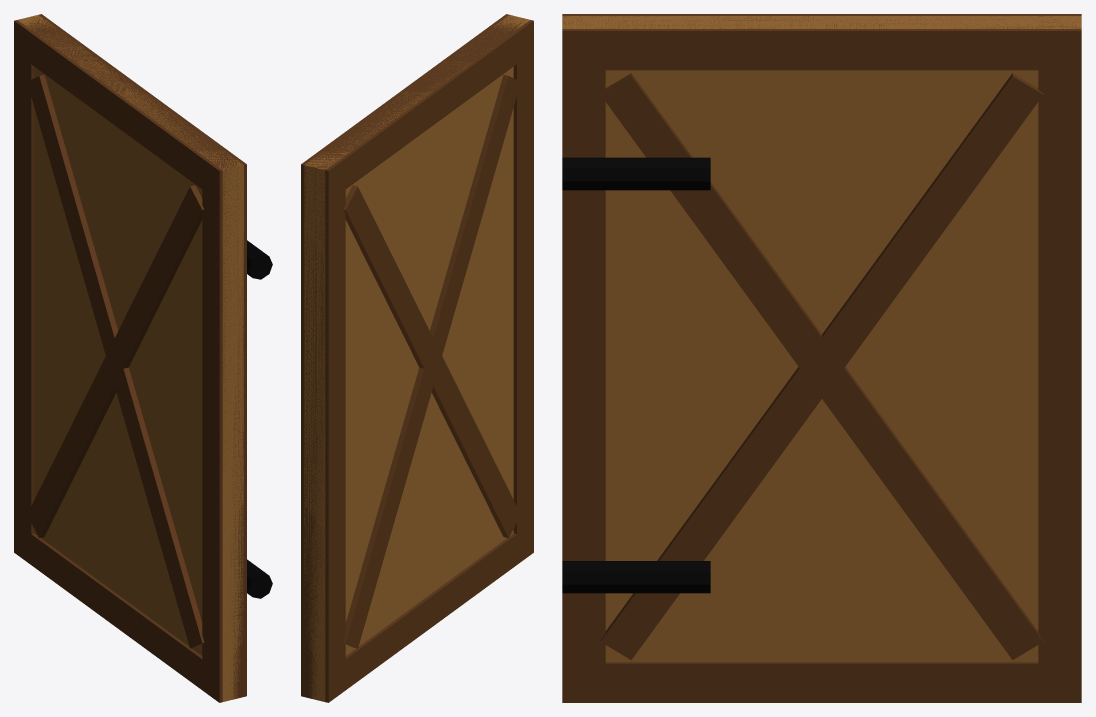
The model's file is PuertaDentroAnimales.obj.
3 views of the same model, side by side, from view 1: azimuth 30°, elevation 25°; view 2: azimuth 150°, elevation 25°; view 3: azimuth 270°, elevation 25° (orthographic). The views are drawn at different scales.
Visible parts, largest first — view 1: Puerta_Establo; view 2: Puerta_Establo; view 3: Puerta_Establo.
Boxes of the visible parts, x1,y1,x2,y2 form: Puerta_Establo: (14, 14, 272, 702); Puerta_Establo: (301, 14, 533, 702); Puerta_Establo: (562, 14, 1081, 702).
Bounding box in the file's own units: 0.131 × 1.2 × 0.84.
